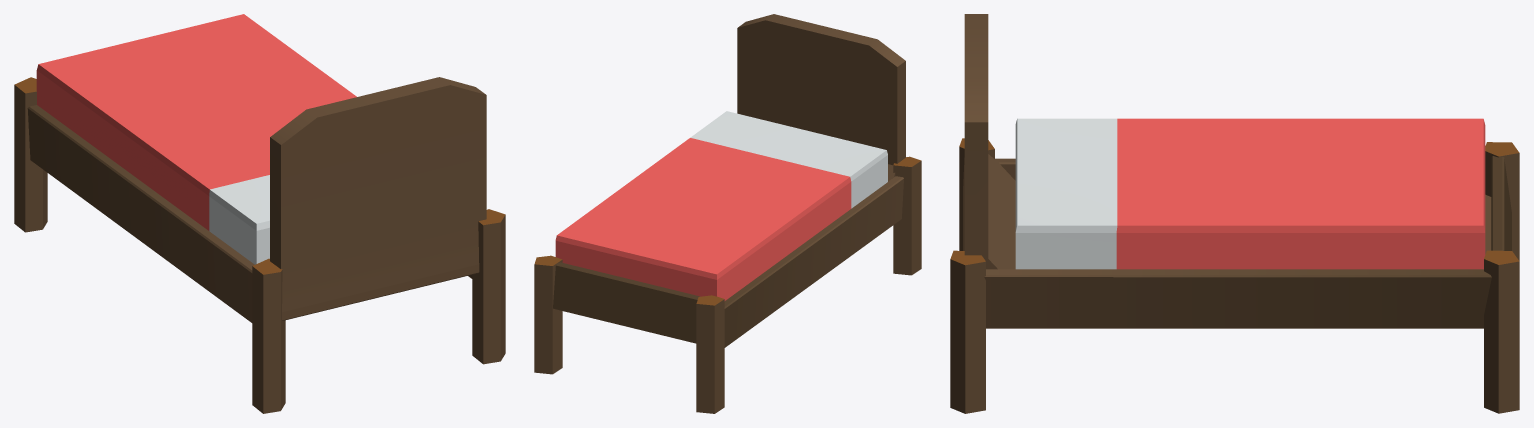
Rendered from Bed.fbx.
3 renders of one model, left to right at view 1: azimuth 30°, elevation 25°; view 2: azimuth 150°, elevation 25°; view 3: azimuth 270°, elevation 25°, orthographic. The views are drawn at different scales.
Parts seen in each view (by area): view 1: polySurface203; view 2: polySurface203; view 3: polySurface203.
Part boxes in pixels (left/top/right/bottom): polySurface203: left=14, top=14, right=505, bottom=413; polySurface203: left=534, top=14, right=921, bottom=413; polySurface203: left=950, top=14, right=1519, bottom=413.
Size of the model in its own units: 115 by 128 by 218.
1 material, 1 textured.
